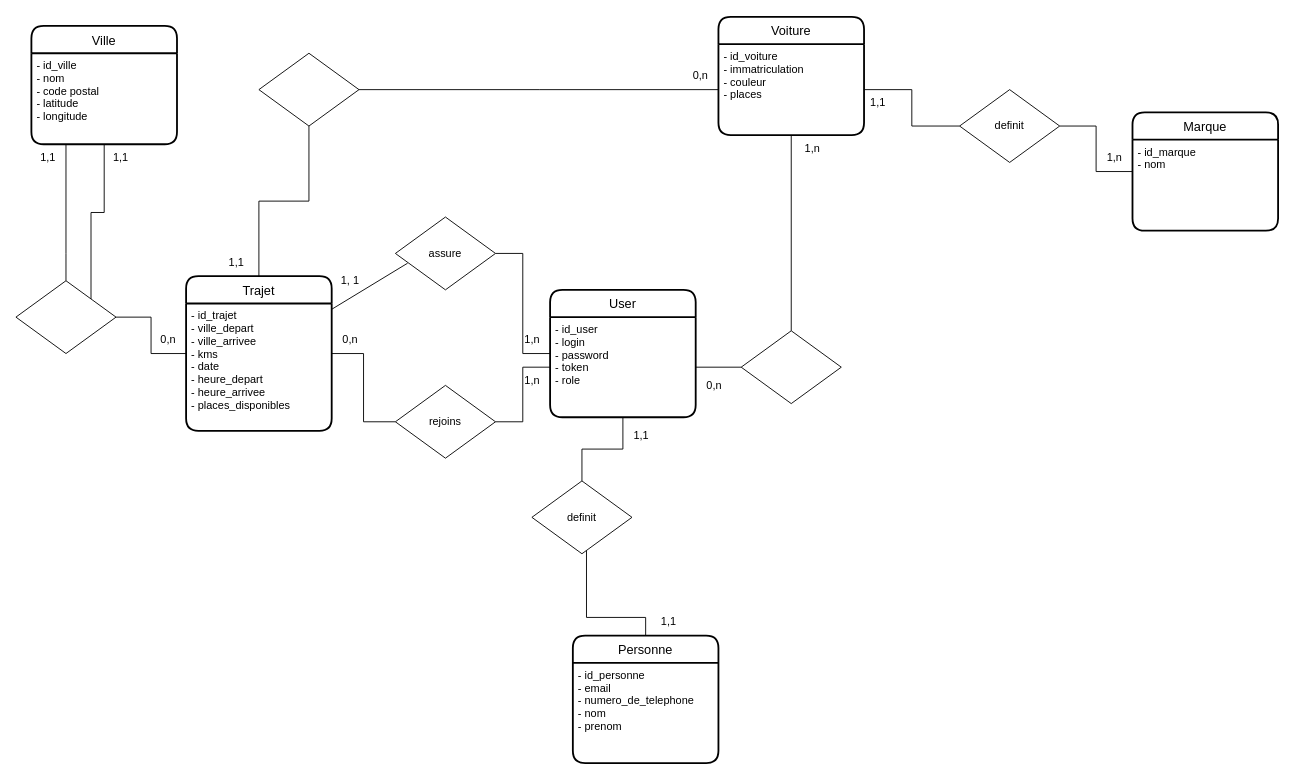
Some shapes in this 1295 by 779 pixel diagram are drawn without their labels. The centre of each missing label's shape, as x and y in pixels:
"choisir" belongs at point 308,89.
"concerne" belongs at point 65,317.
"possede" belongs at point 790,367.
